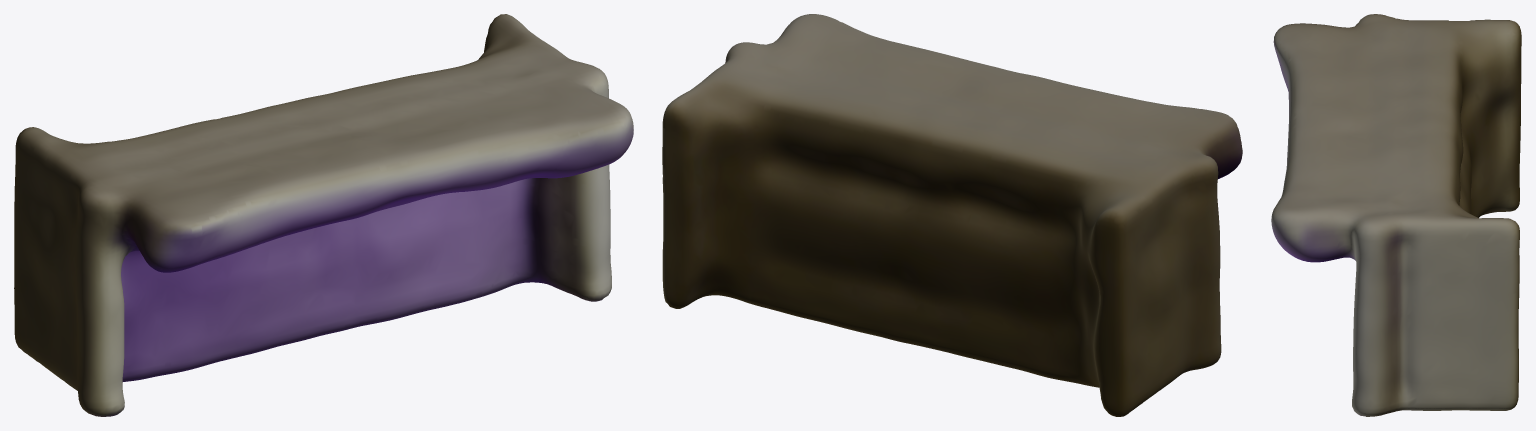
The model's file is sofa.glb.
3 renders of one model, left to right at view 1: azimuth 30°, elevation 25°; view 2: azimuth 150°, elevation 25°; view 3: azimuth 270°, elevation 25°, orthographic. The views are drawn at different scales.
Size of the model in its own units: 0.9991 by 0.4252 by 0.48.
